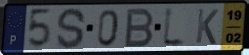0: (96, 9, 121, 48)
5: (26, 7, 55, 51)
B: (122, 7, 156, 49)
K: (194, 8, 220, 47)
L: (160, 5, 188, 50)
S: (55, 6, 88, 50)
